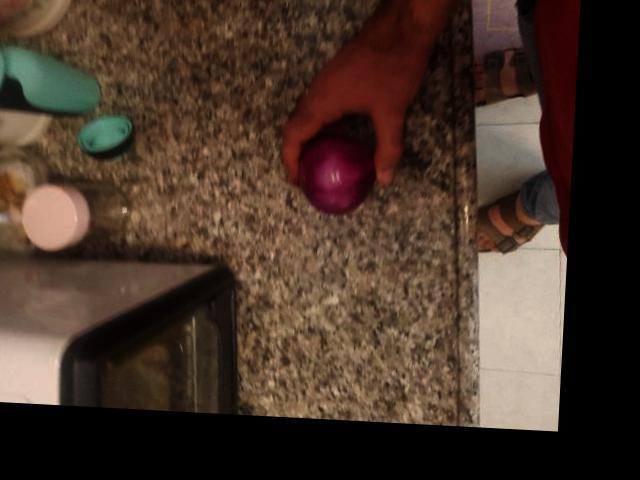onion: (297, 130, 378, 211)
